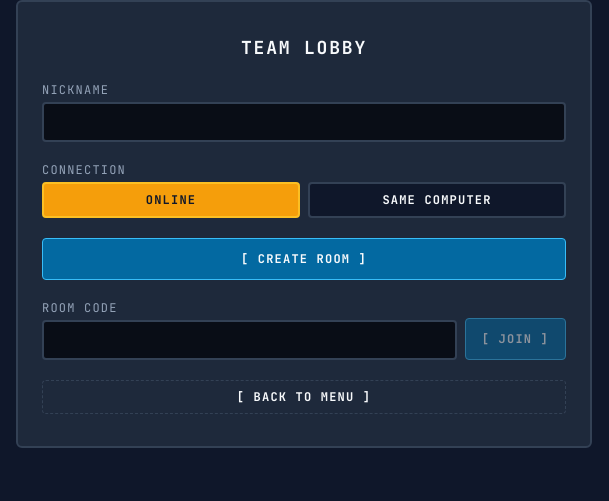
Test: TeamLobby (view) › rejects an invalid nickname without connecting
Click the button "[ Create Room ]".
click(304, 259)  # box [42,238,566,280]
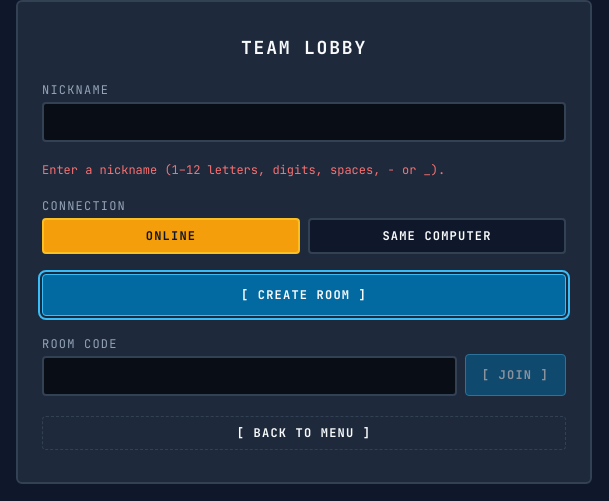
Expected: the text "Enter a nickname (1–12 letters, digits, spaces, - or _)." is shown, [42,162,445,178]
